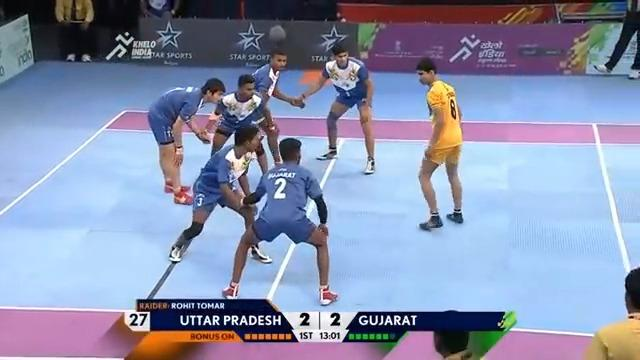Player: (221, 137, 339, 305), (167, 125, 273, 264), (294, 43, 376, 174), (146, 76, 226, 205), (203, 73, 280, 175), (248, 48, 305, 169)
Raider: (414, 56, 464, 230)
referee: (582, 266, 639, 359), (431, 309, 517, 359), (592, 0, 639, 79), (432, 309, 473, 359)
